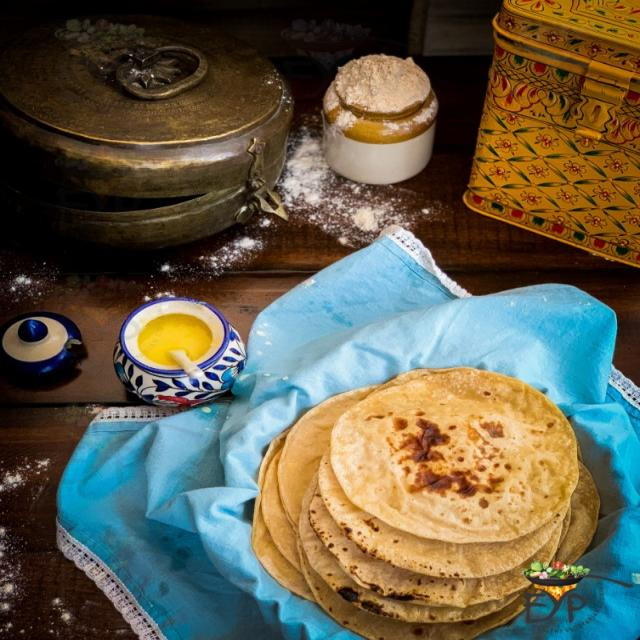roti: (330, 367, 577, 542), (319, 452, 560, 577), (310, 498, 525, 607), (299, 490, 471, 622), (302, 557, 520, 639), (278, 386, 372, 521), (251, 497, 314, 600), (554, 463, 599, 565), (261, 453, 298, 563), (471, 596, 515, 614)
